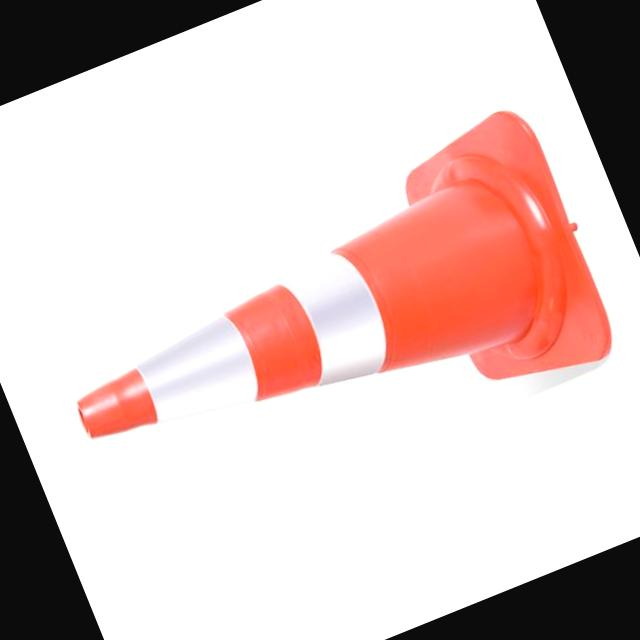cone: (26, 115, 605, 532)
